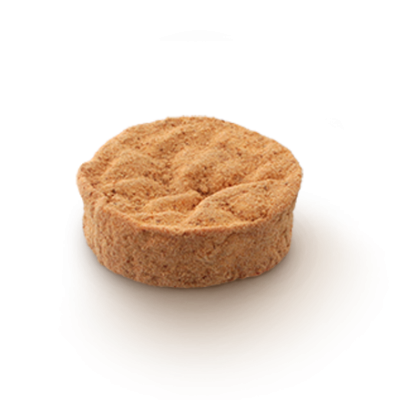camembert: (76, 115, 304, 291)
